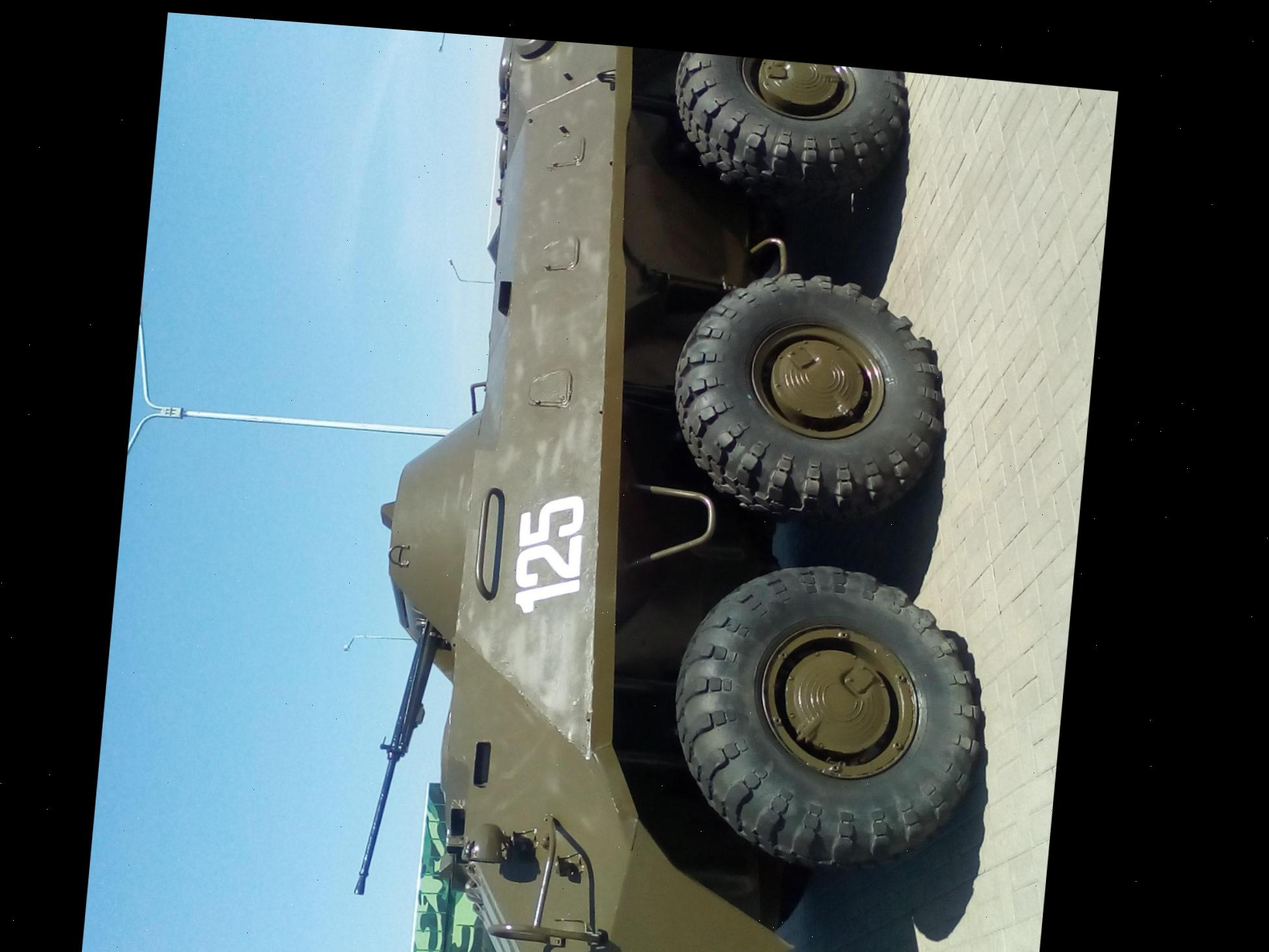tank: (333, 30, 1041, 952)
